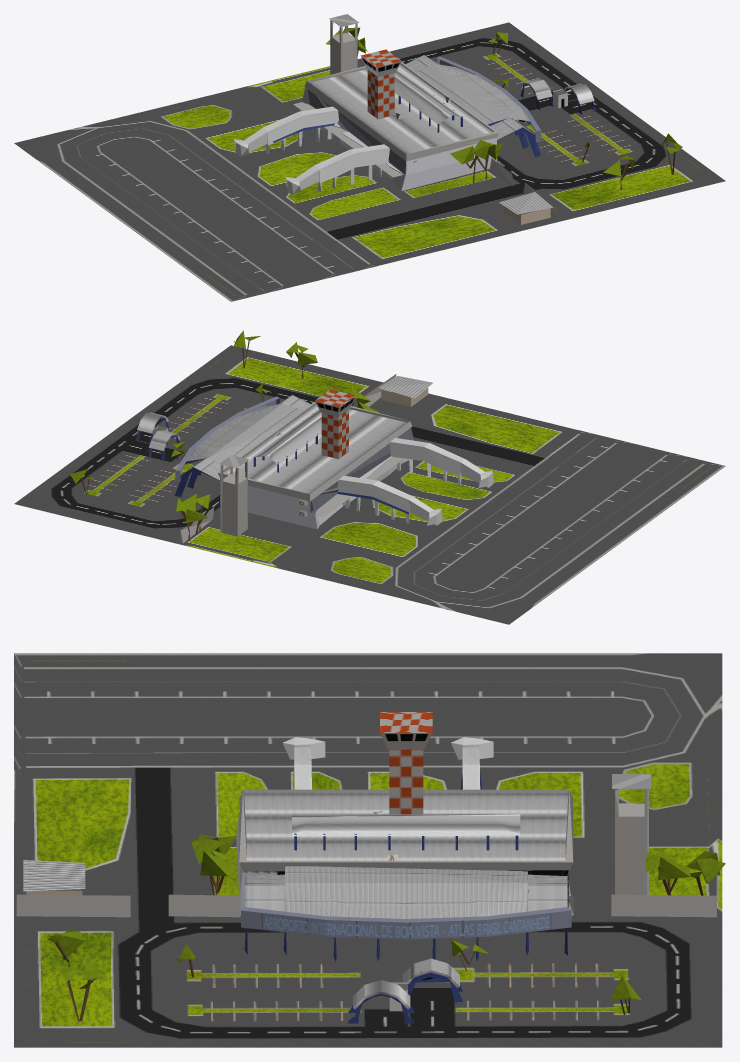
File: aeroportoLOD2.fbx
3 views of the same model, one above another, from view 1: azimuth 30°, elevation 25°; view 2: azimuth 150°, elevation 25°; view 3: azimuth 270°, elevation 25° (orthographic). The views are drawn at different scales.
Visible parts, largest first — view 1: aeroporto LOD 2; view 2: aeroporto LOD 2; view 3: aeroporto LOD 2.
Part boxes in pixels (box(x1,y1,x2,y2)): aeroporto LOD 2: box(14, 14, 725, 301); aeroporto LOD 2: box(14, 330, 725, 624); aeroporto LOD 2: box(14, 653, 725, 1047).
Bounding box in the file's own units: 2062 × 379 × 1573.
1 material, 1 textured.
